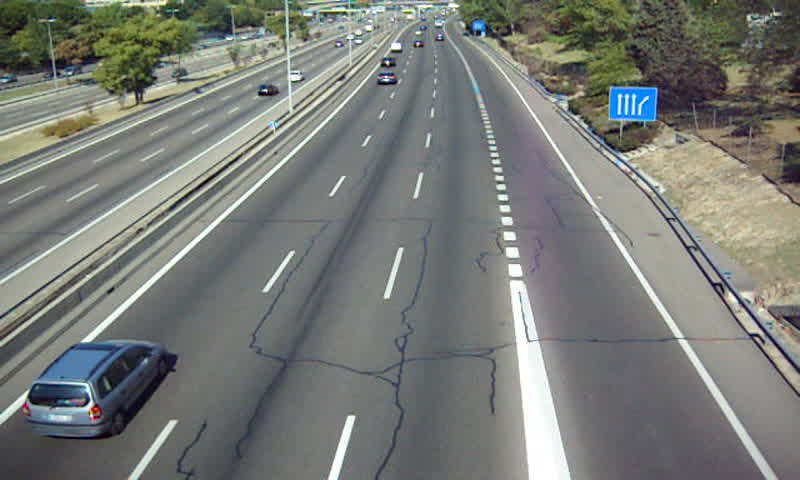car: (24, 339, 168, 439), (377, 70, 398, 85)
